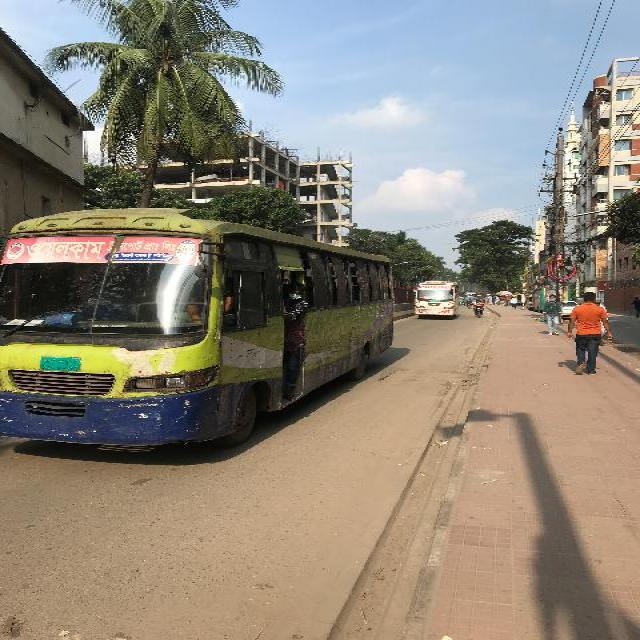bike: (474, 301, 483, 318), (466, 299, 472, 309)
vehicle: (1, 201, 394, 455), (413, 280, 458, 319), (512, 295, 525, 307), (526, 296, 532, 310), (460, 297, 465, 307)
